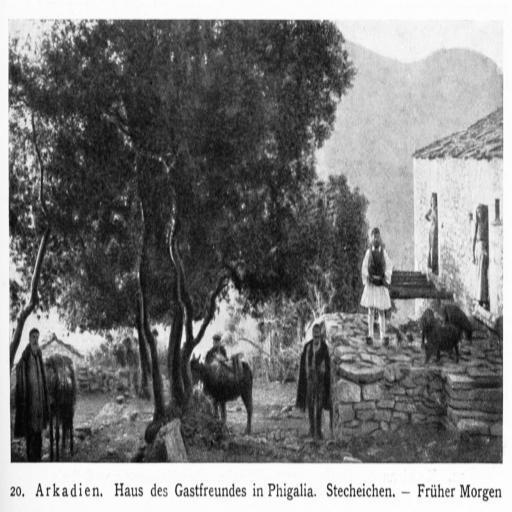horse: (10, 355, 76, 462), (186, 353, 252, 436), (47, 372, 79, 466)
